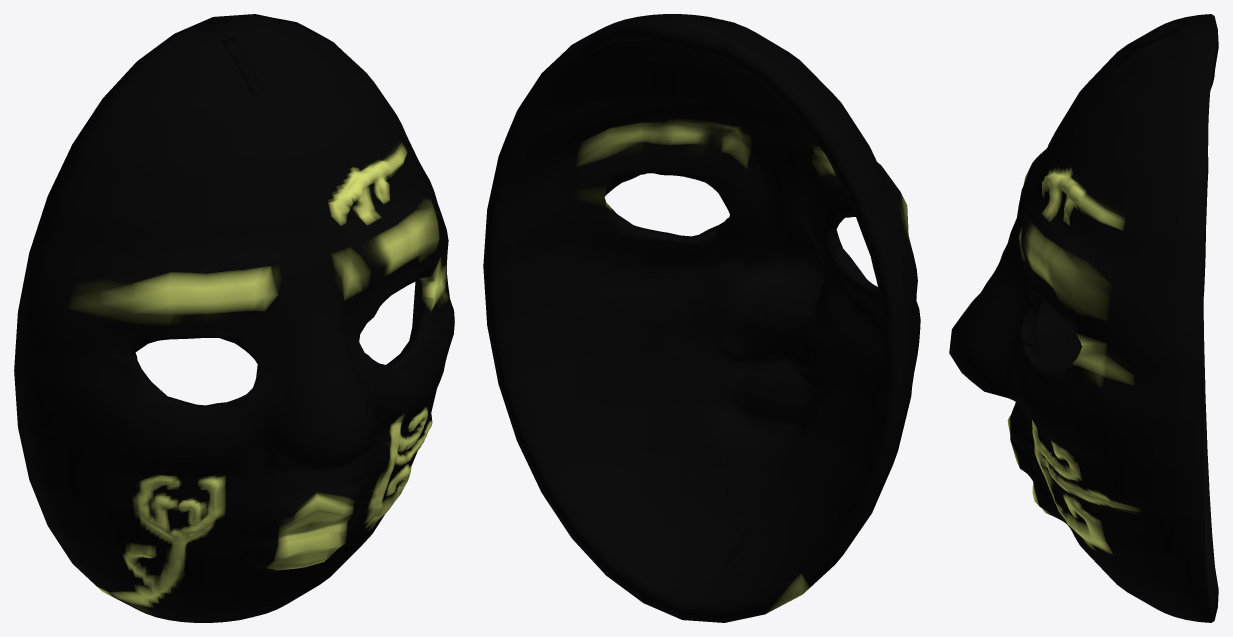
The model's file is mask.glb.
The picture shows the model from 3 angles, left to right: view 1: azimuth 30°, elevation 25°; view 2: azimuth 150°, elevation 25°; view 3: azimuth 270°, elevation 25°; orthographic projection. The views are drawn at different scales.
Parts seen in each view (by area): view 1: Sphere; view 2: Sphere; view 3: Sphere.
Boxes of the visible parts, left/top/right/bottom form: Sphere: left=14, top=14, right=454, bottom=622; Sphere: left=483, top=14, right=920, bottom=622; Sphere: left=949, top=14, right=1218, bottom=622.
Size of the model in its own units: 2.26 by 3.09 by 1.31.
